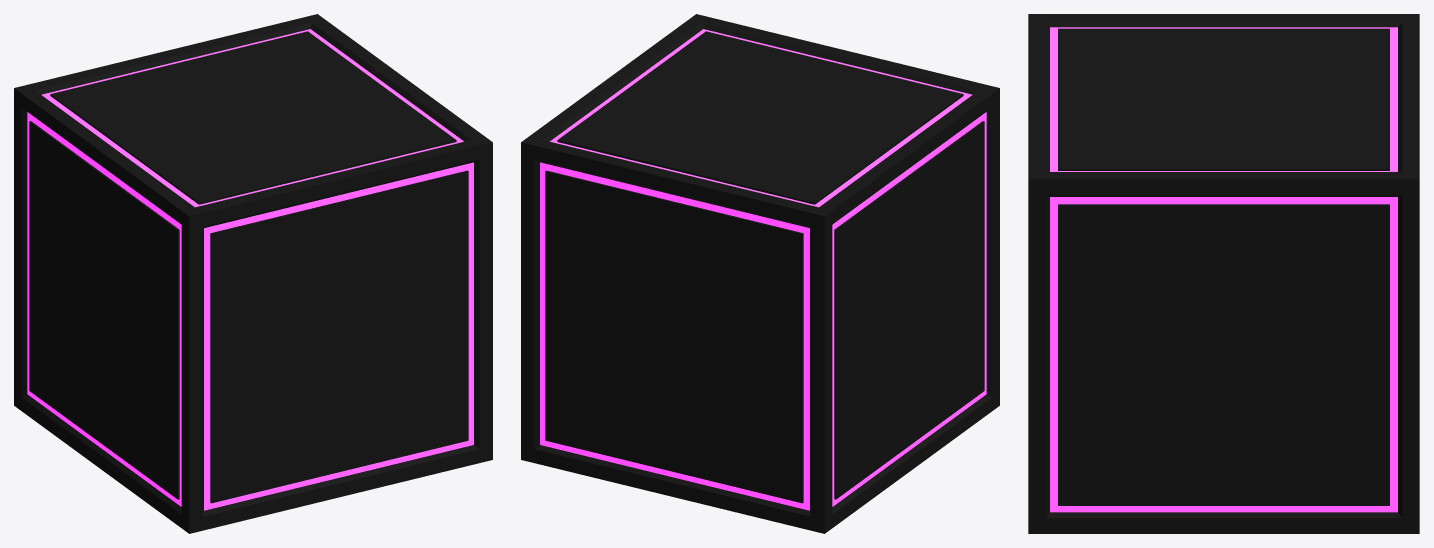
3 views of the same model, side by side, from view 1: azimuth 30°, elevation 25°; view 2: azimuth 150°, elevation 25°; view 3: azimuth 270°, elevation 25° (orthographic). The views are drawn at different scales.
Parts seen in each view (by area): view 1: Box; view 2: Box; view 3: Box.
Part boxes in pixels (bbox=[...]): Box: bbox=[14, 14, 492, 533]; Box: bbox=[521, 14, 999, 533]; Box: bbox=[1028, 14, 1419, 533].
Size of the model in its own units: 205 by 205 by 205.
